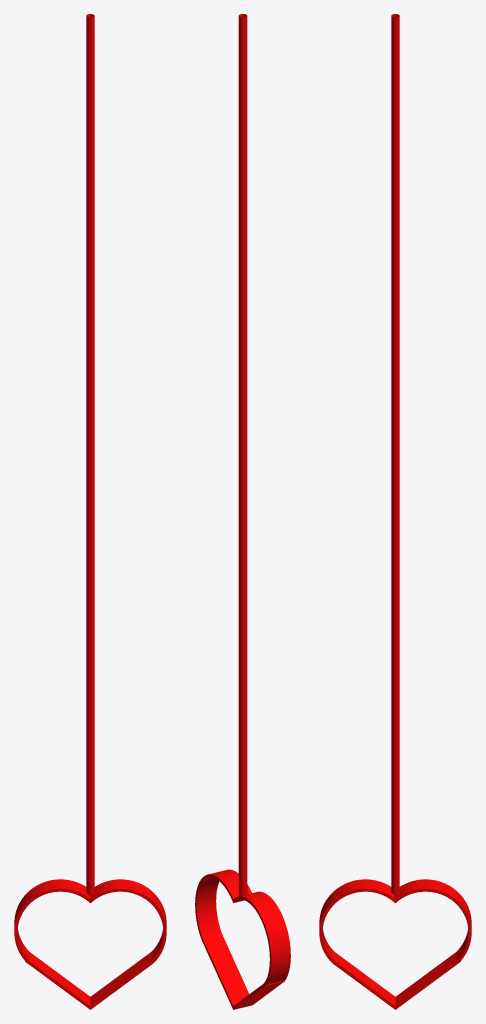
Rendered from cutter1_heart.fbx.
The picture shows the model from 3 angles, left to right: view 1: azimuth 90°, elevation 25°; view 2: azimuth 210°, elevation 25°; view 3: azimuth 270°, elevation 25°; orthographic projection.
Visible parts, largest first — view 1: Cutter1_Heart; view 2: Cutter1_Heart; view 3: Cutter1_Heart.
Part boxes in pixels (x1,y1,x2,y2): Cutter1_Heart: (14, 14, 166, 1009); Cutter1_Heart: (195, 14, 290, 1009); Cutter1_Heart: (319, 14, 471, 1009).
Size of the model in its own units: 16.8 by 820 by 114.
